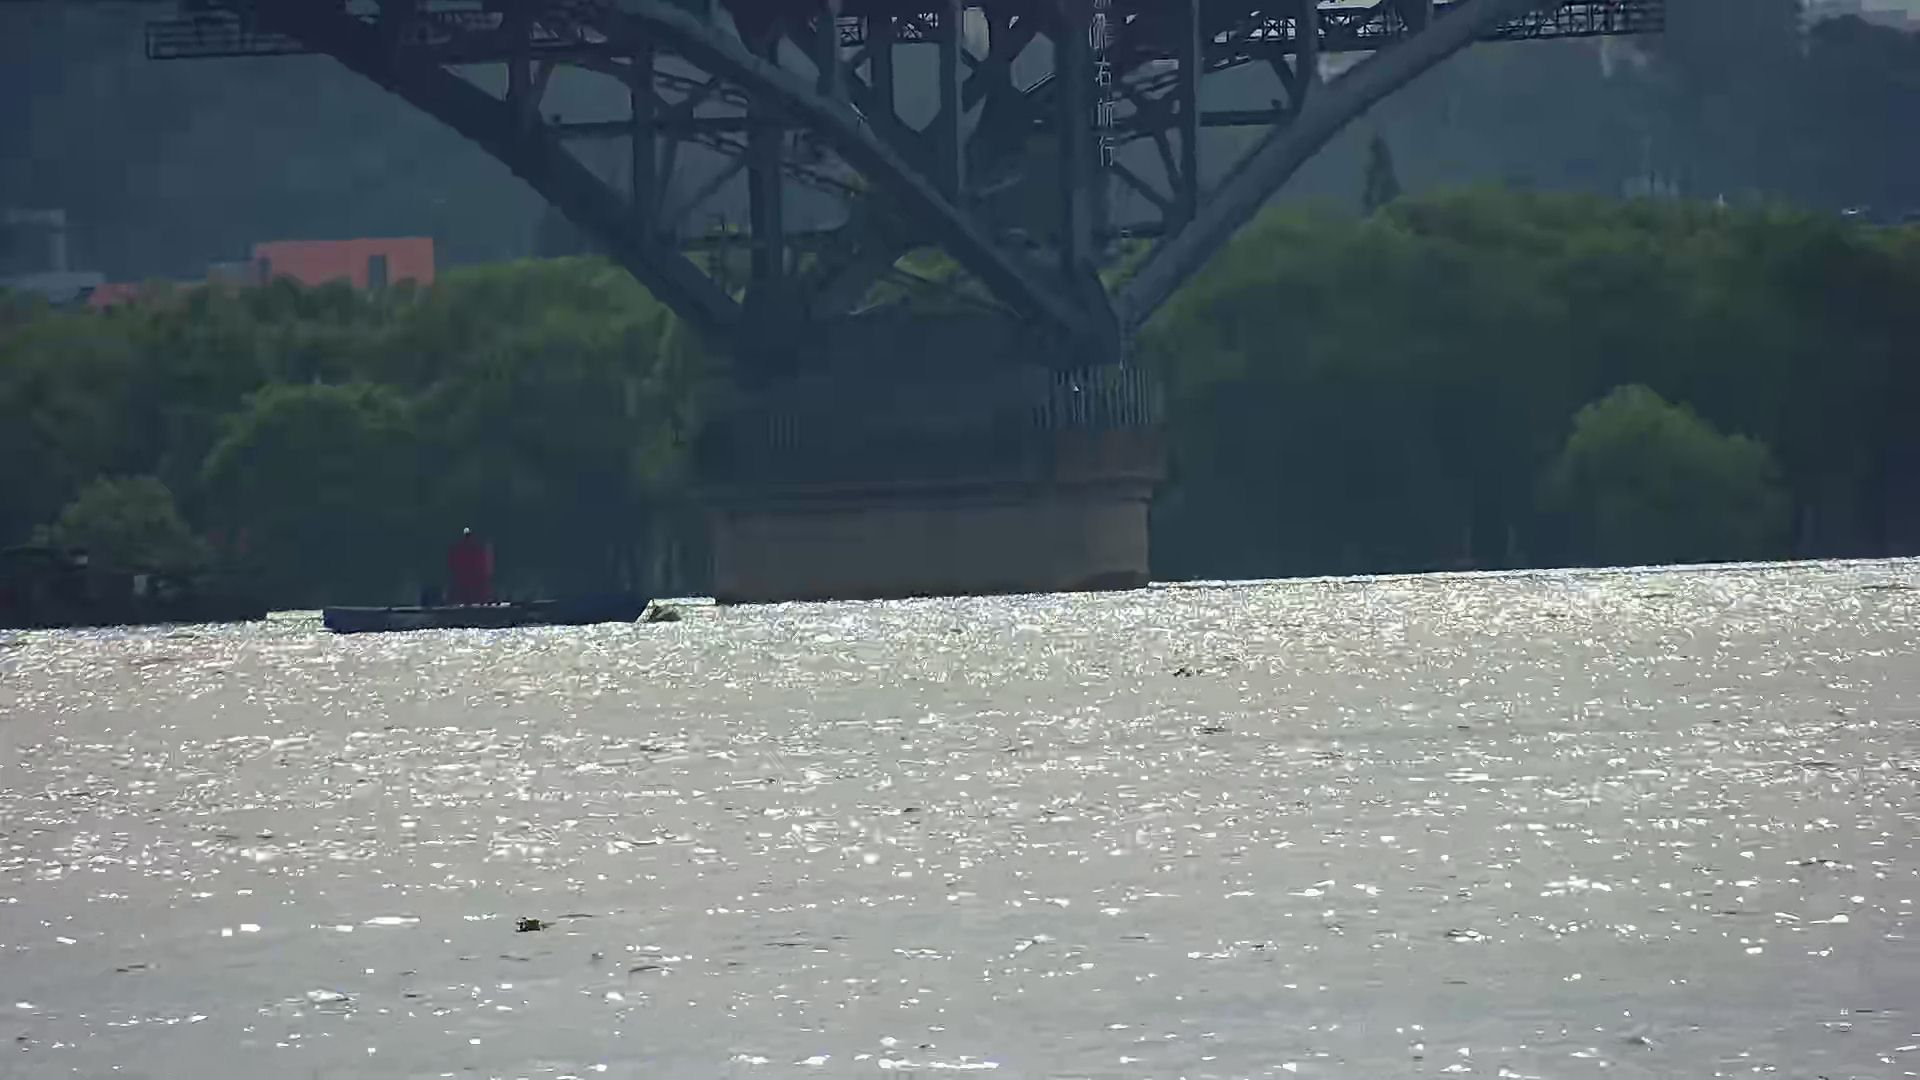boat: (320, 530, 650, 634)
bridge: (146, 1, 1669, 603)
ship: (1, 526, 264, 628)
